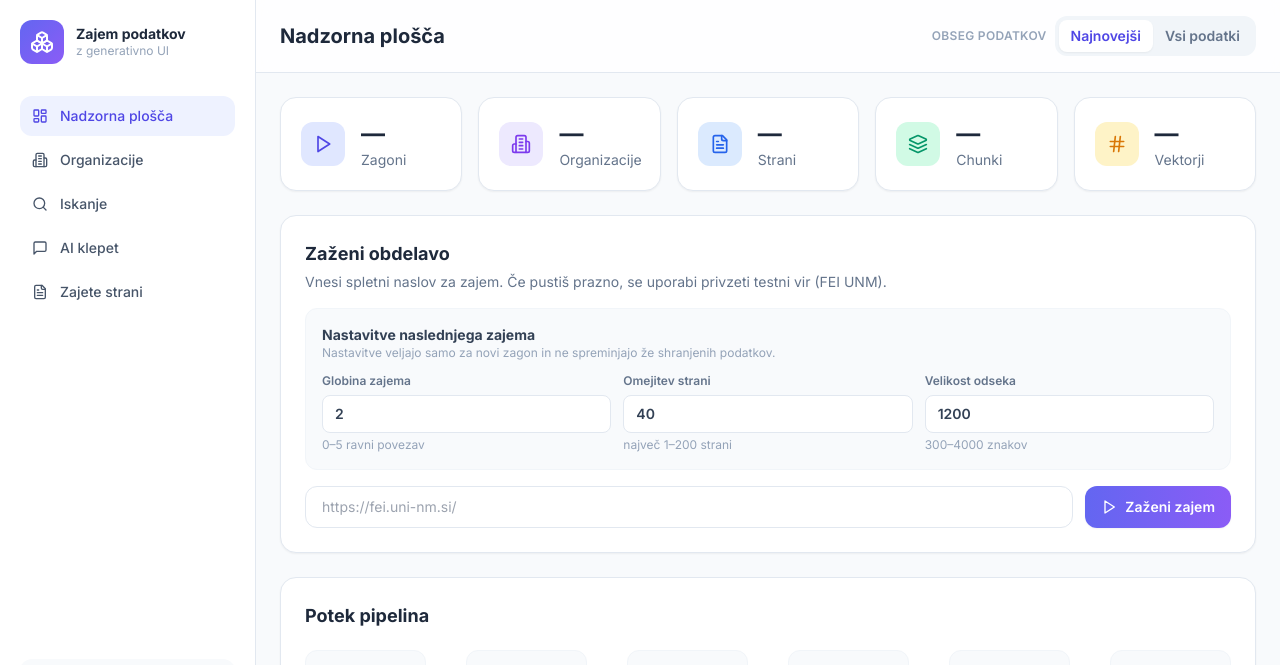
Scenario: App › preklopi na naslednjo stran zajetih strani
The image size is (1280, 665).
Click the button "Zajete strani" at (128, 292), box x1=20 y1=272 x2=235 y2=312
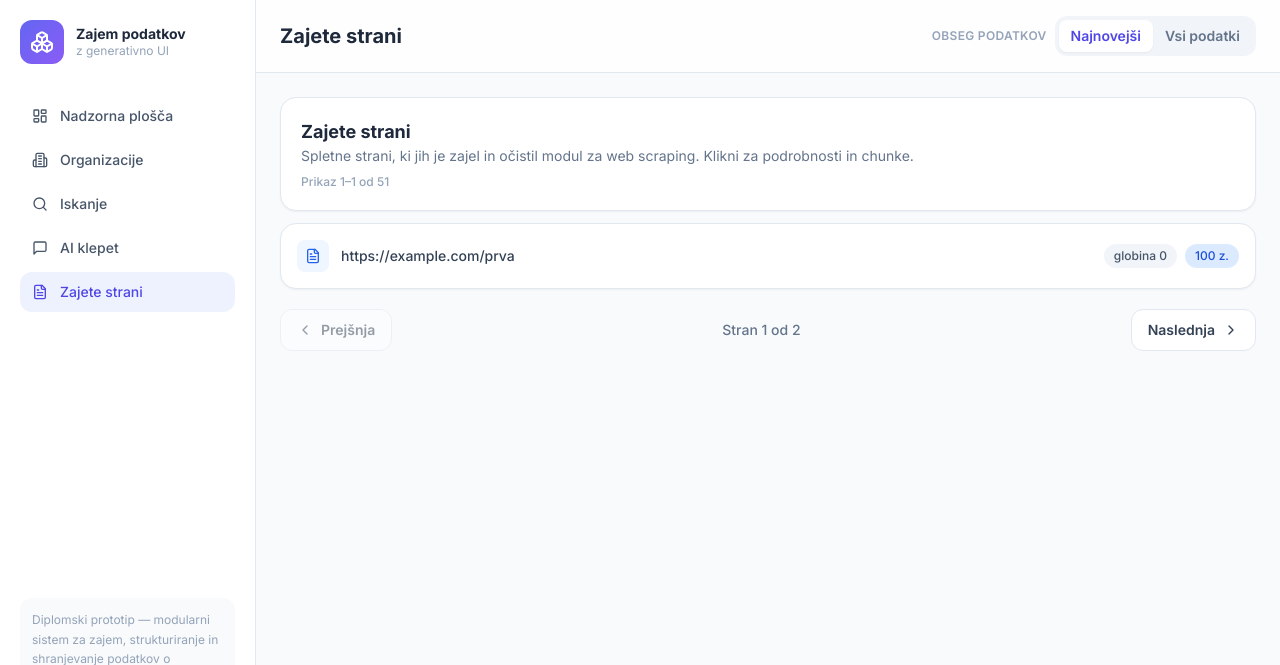
Now the text "https://example.com/prva" is shown, box x1=341 y1=246 x2=515 y2=266
Click the button "Naslednja" at (1193, 330), box x1=1131 y1=309 x2=1256 y2=351
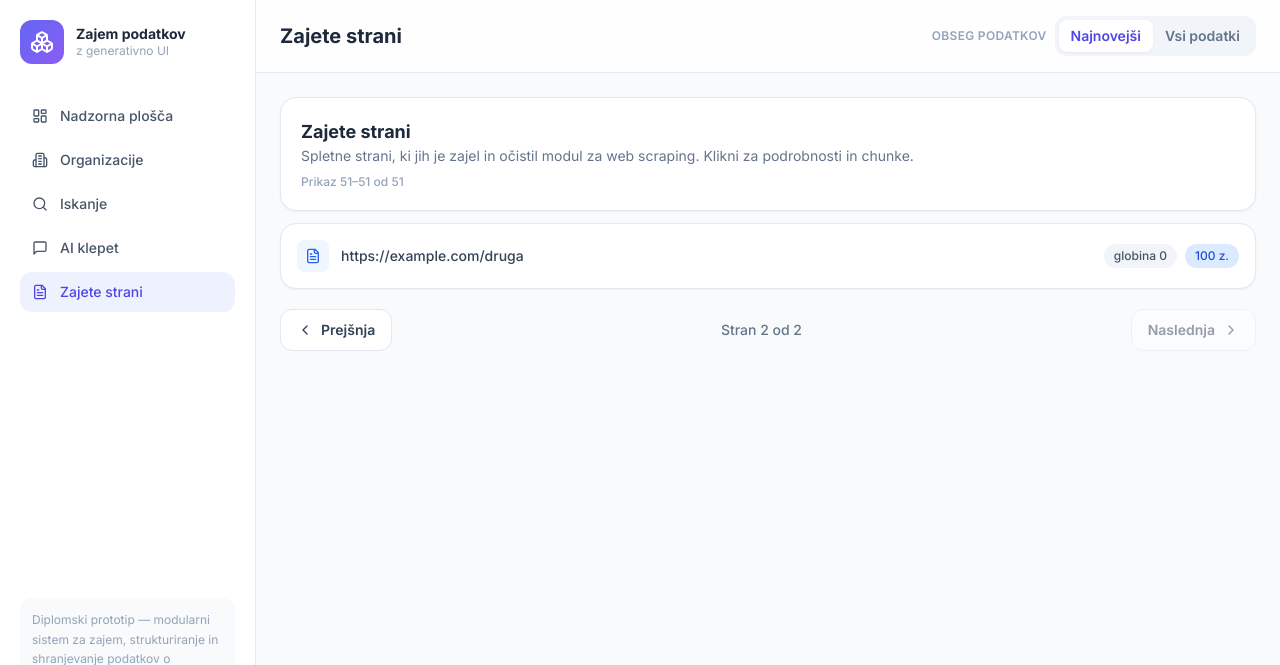
Now the text "https://example.com/druga" is shown, box x1=341 y1=246 x2=524 y2=266
